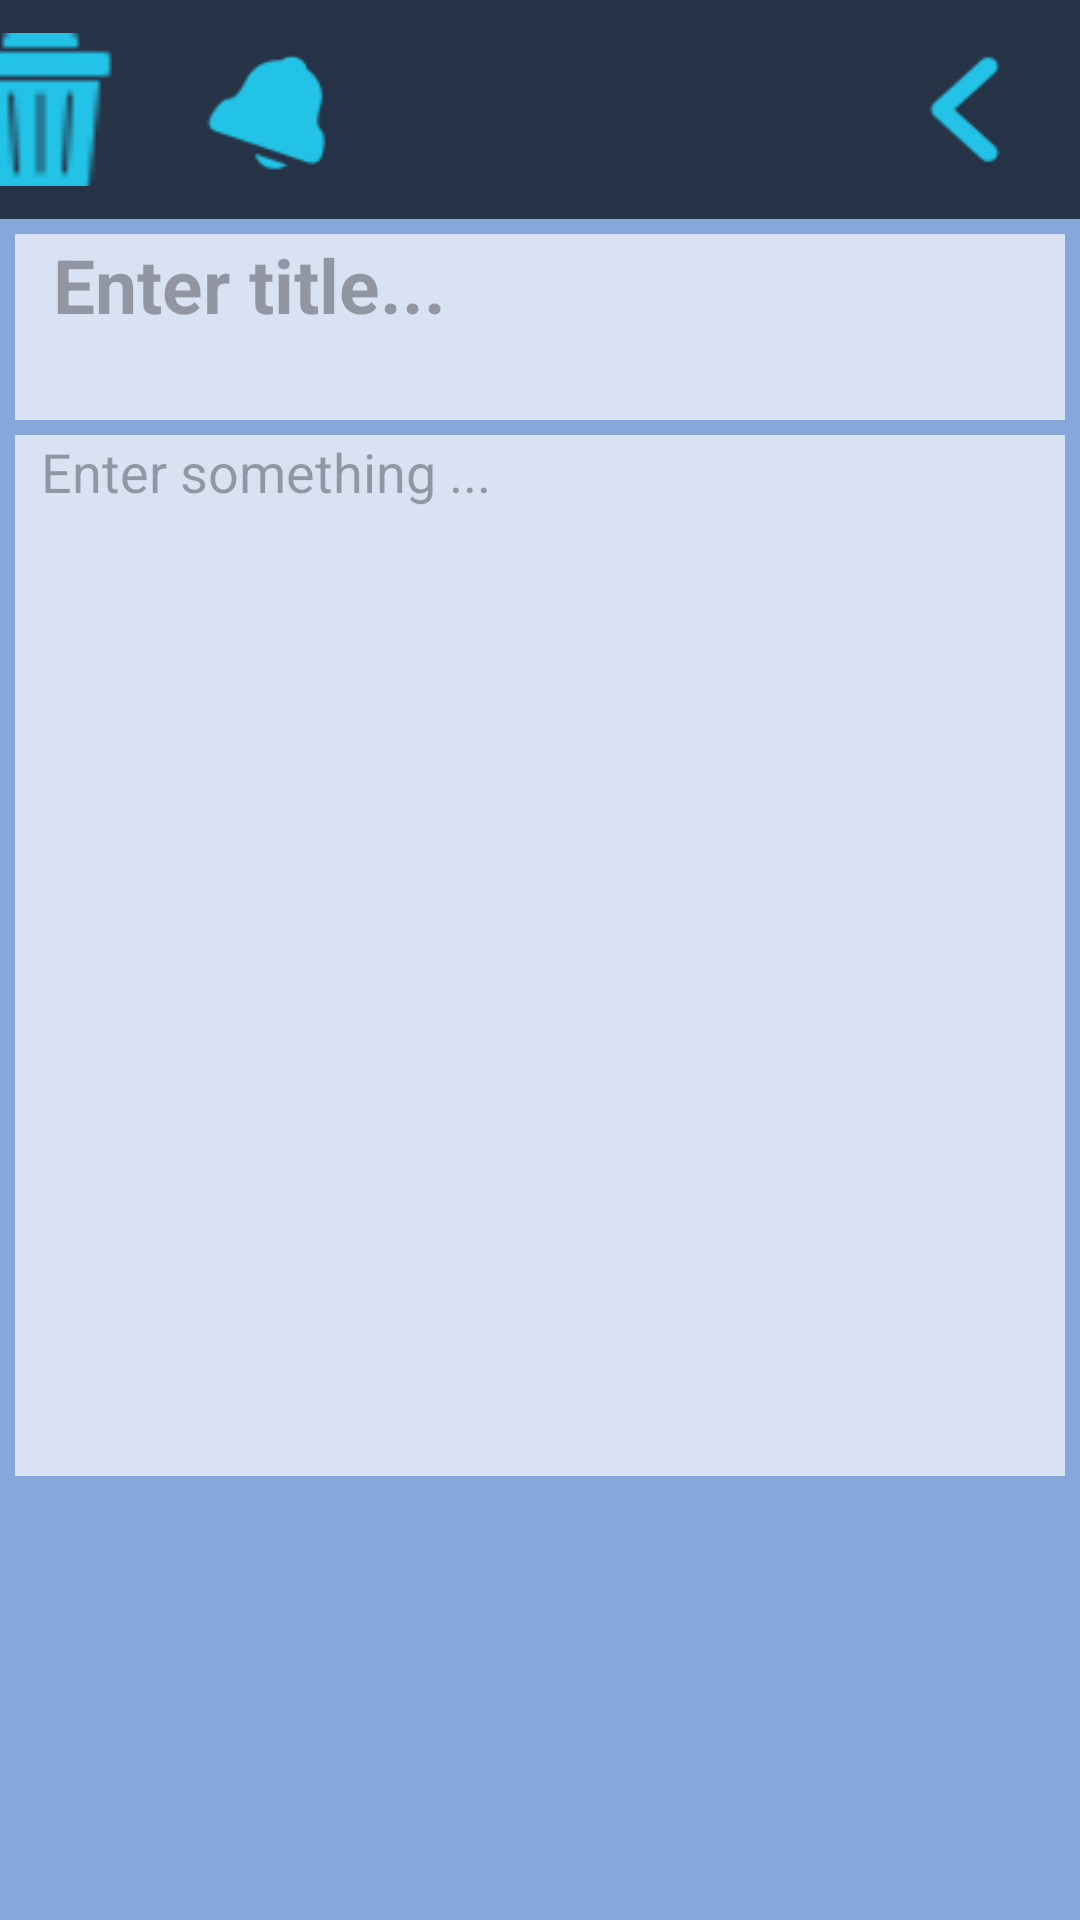

Point at icon controls on the screen. Image size 1080px x 1920px, points as point (x, y).
back: point (965, 109)
rem: point (266, 113)
